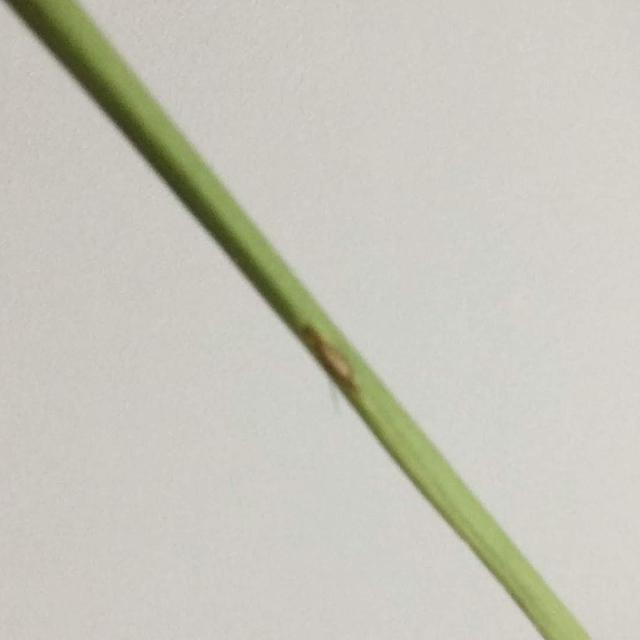Leaf_Blast: (279, 288, 390, 429)
